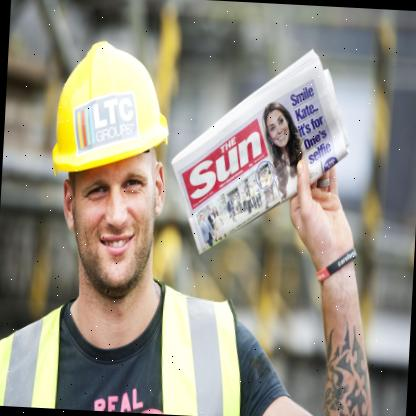capacete: (50, 37, 173, 185)
